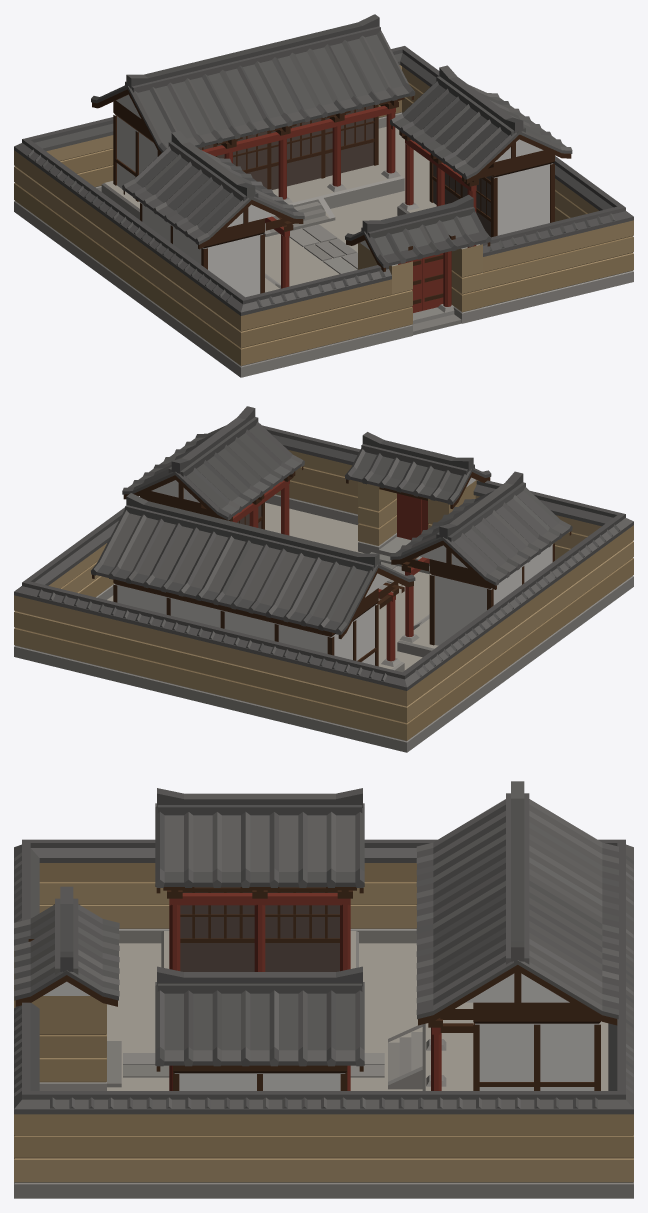
File: courtyard-residence-342ac2.glb
3 views of the same model, one above another, from view 1: azimuth 30°, elevation 25°; view 2: azimuth 150°, elevation 25°; view 3: azimuth 270°, elevation 25° (orthographic). The views are drawn at different scales.
Parts seen in each view (by area): view 1: courtyard-residence-body, gate-door-r-leaf, gate-door-l-leaf; view 2: courtyard-residence-body, gate-door-r-leaf; view 3: courtyard-residence-body.
Boxes of the visible parts, left/top/right/bottom form: courtyard-residence-body: left=14, top=14, right=633, bottom=377; gate-door-r-leaf: left=422, top=253, right=443, bottom=310; gate-door-l-leaf: left=398, top=259, right=422, bottom=312; courtyard-residence-body: left=14, top=406, right=633, bottom=752; gate-door-r-leaf: left=397, top=493, right=421, bottom=539; courtyard-residence-body: left=14, top=781, right=633, bottom=1198.
Bounding box in the file's own units: 16 × 5.79 × 16.
